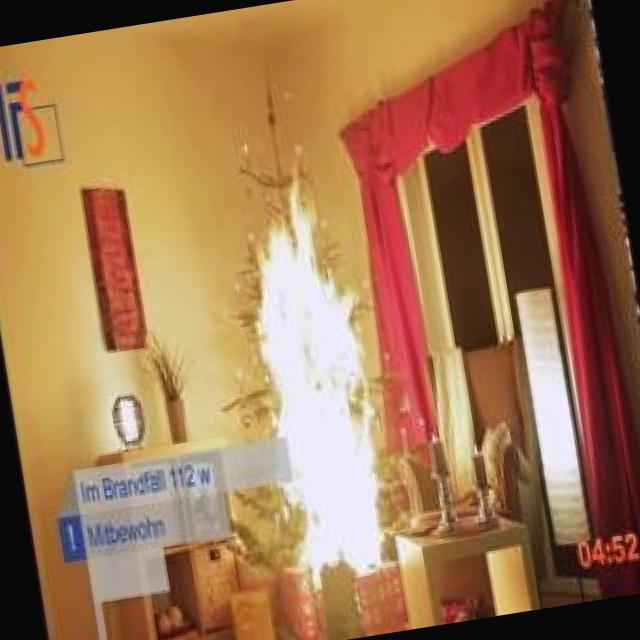fire: (222, 178, 421, 595)
